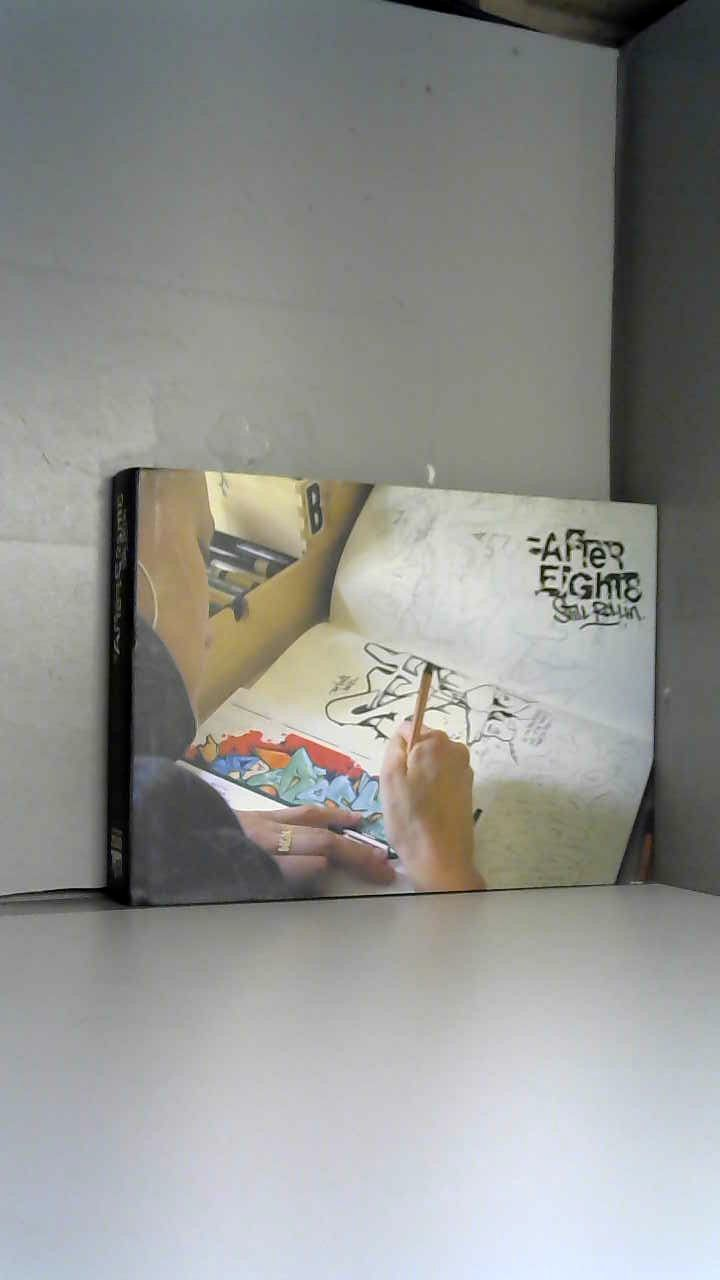book: (80, 440, 720, 938)
